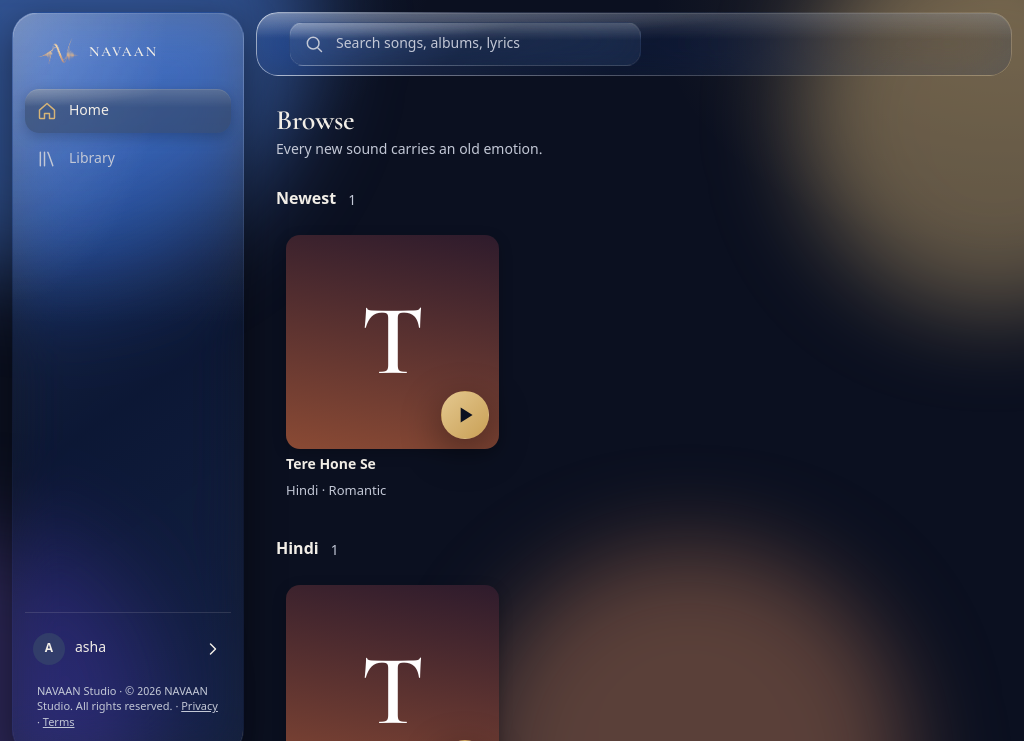
Test: the shell for a listener › shows no Studio or Albums, no classic view, and Browse as Home
Expected: the heading "Browse" is shown, 276,103 -> 354,137
Expected: the link "Library" is shown, 37,149 -> 115,169
Click the button with aria-label "Account menu" at (128, 649), box 25,625 -> 231,673
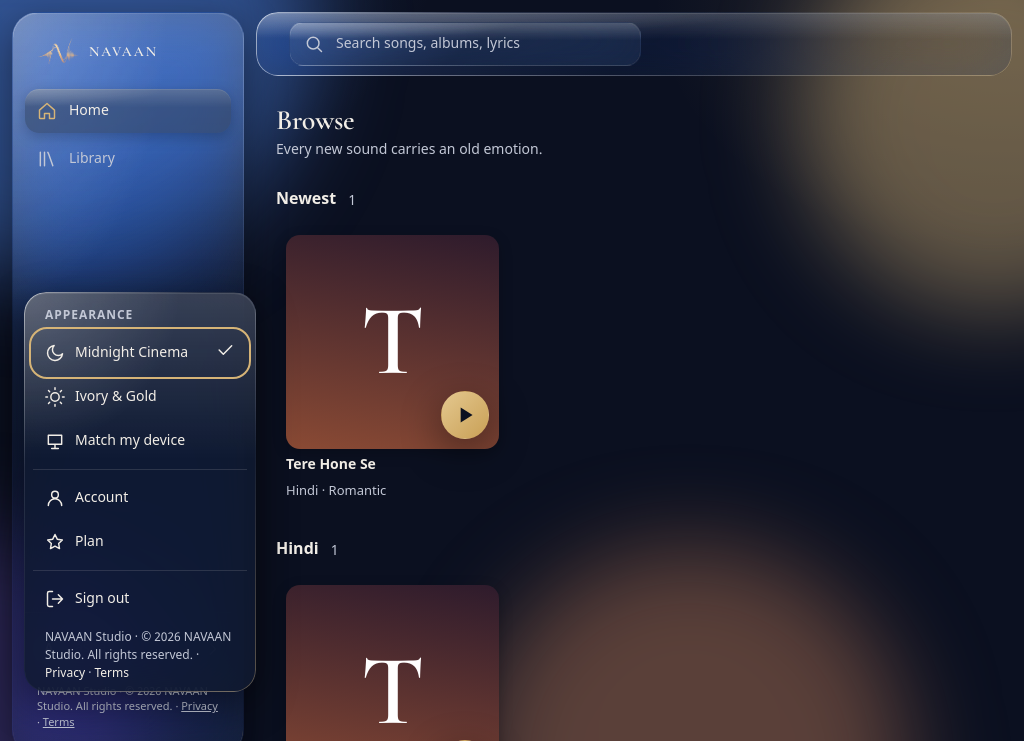
Result: the link "Account" is shown at 45,488 -> 128,508
